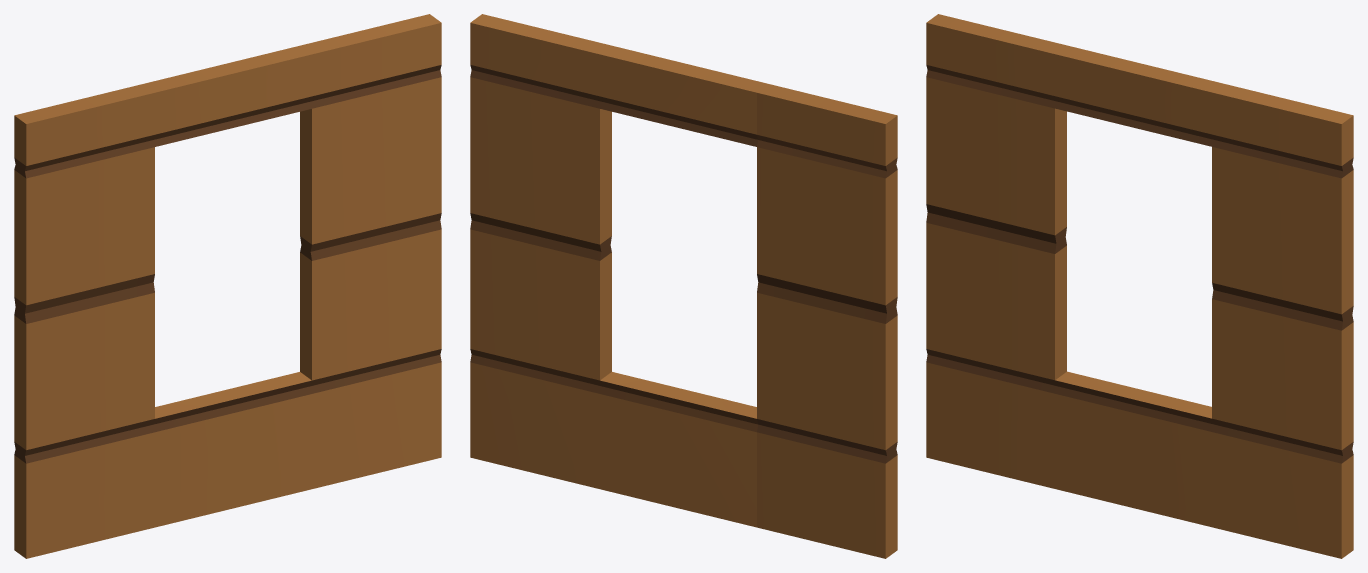
The model's file is Wall_Wood_Balcony_01.fbx.
3 views of the same model, side by side, from view 1: azimuth 30°, elevation 25°; view 2: azimuth 150°, elevation 25°; view 3: azimuth 330°, elevation 25° (orthographic).
Parts seen in each view (by area): view 1: Wall_Wood_Balcony_01; view 2: Wall_Wood_Balcony_01; view 3: Wall_Wood_Balcony_01.
Boxes of the visible parts, left/top/right/bottom form: Wall_Wood_Balcony_01: left=14, top=14, right=441, bottom=558; Wall_Wood_Balcony_01: left=470, top=14, right=897, bottom=558; Wall_Wood_Balcony_01: left=926, top=14, right=1353, bottom=558.
Bounding box in the file's own units: 4 × 4 × 0.2.
